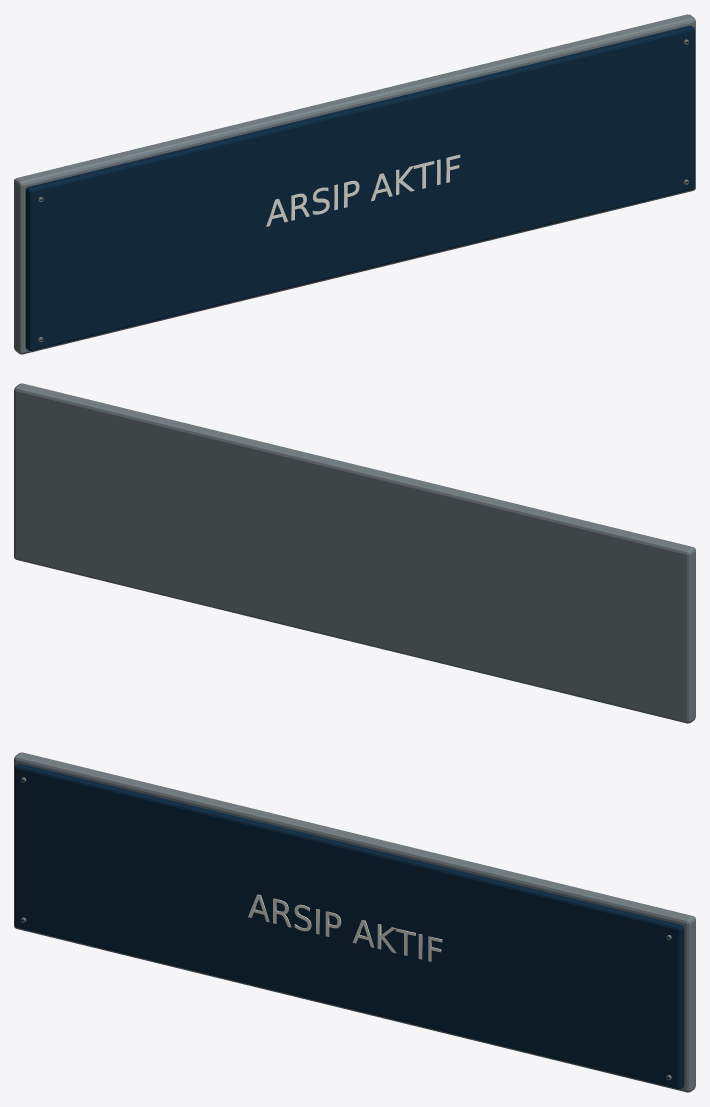
Rendered from OAA_Papan_Ruang_Arsip_Aktif.fbx.
The picture shows the model from 3 angles, top to bottom: view 1: azimuth 30°, elevation 25°; view 2: azimuth 150°, elevation 25°; view 3: azimuth 330°, elevation 25°; orthographic projection.
Parts seen in each view (by area): view 1: Body; view 2: Body; view 3: Body.
Boxes of the visible parts, x1,y1,x2,y2 form: Body: (14, 14, 695, 354); Body: (14, 383, 695, 723); Body: (14, 752, 695, 1092).
Bounding box in the file's own units: 0.9 × 0.22 × 0.0312.
